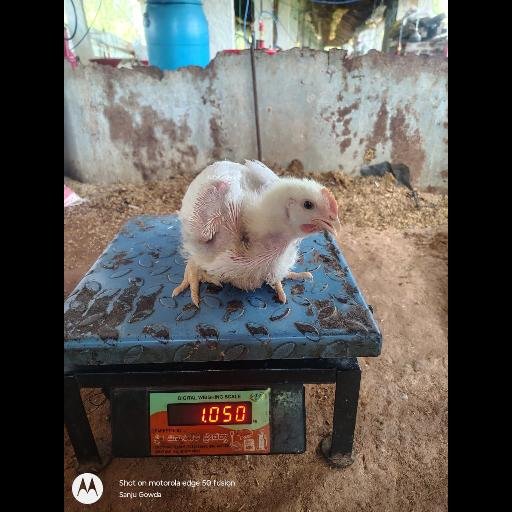chick: (180, 159, 340, 305)
